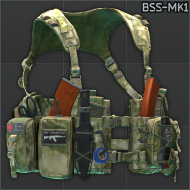Gear Craft GC-BSS-MK1 chest rig: (0, 0, 190, 190)
